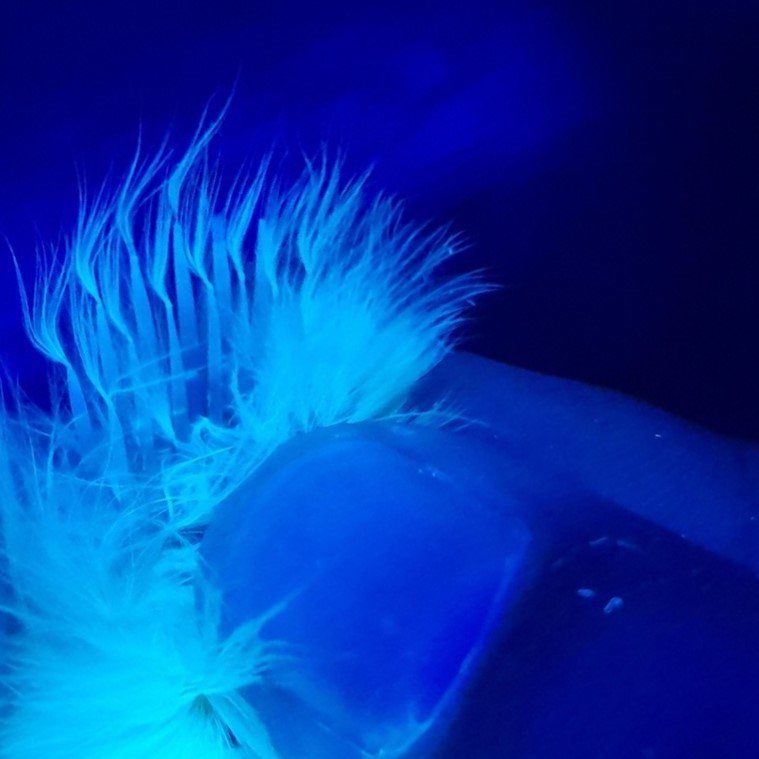female: (34, 202, 300, 526)
